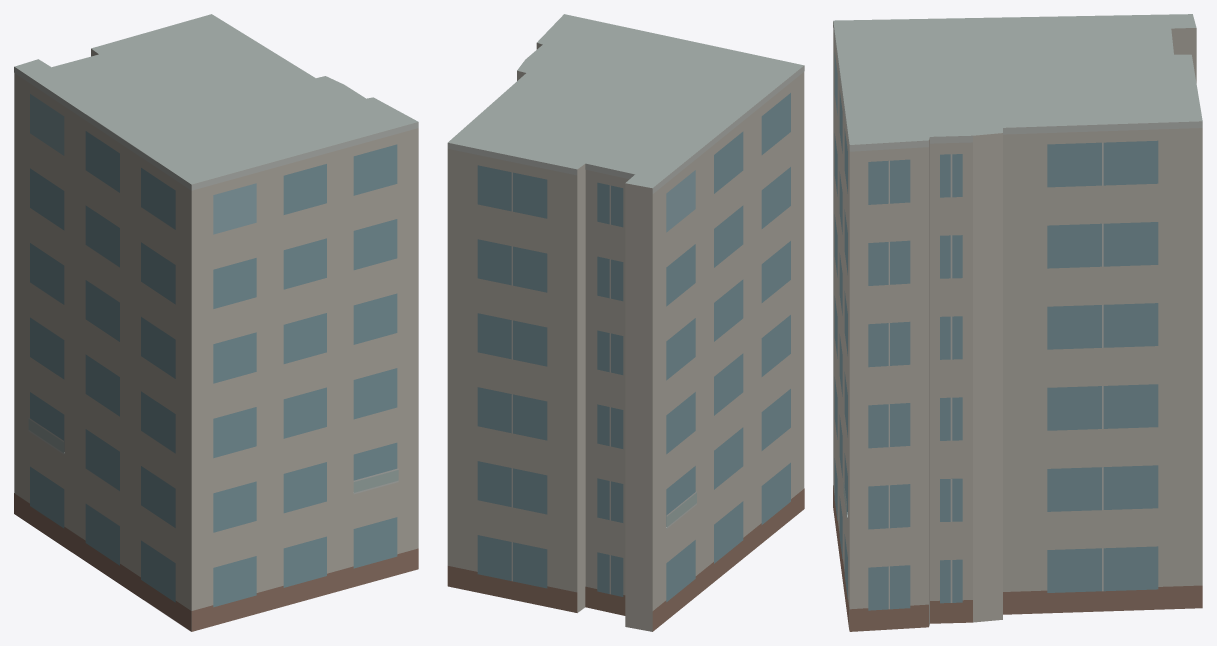
The model's file is survey-upis-32879795.glb.
The picture shows the model from 3 angles, left to right: view 1: azimuth 30°, elevation 25°; view 2: azimuth 150°, elevation 25°; view 3: azimuth 270°, elevation 25°; orthographic projection. The views are drawn at different scales.
Parts seen in each view (by area): view 1: survey-upis-32879795.tmp; view 2: survey-upis-32879795.tmp; view 3: survey-upis-32879795.tmp.
Boxes of the visible parts, x1,y1,x2,y2 form: survey-upis-32879795.tmp: (14, 14, 418, 631); survey-upis-32879795.tmp: (447, 14, 804, 631); survey-upis-32879795.tmp: (833, 14, 1202, 631).
Bounding box in the file's own units: 10.23 × 17.7 × 12.19.
